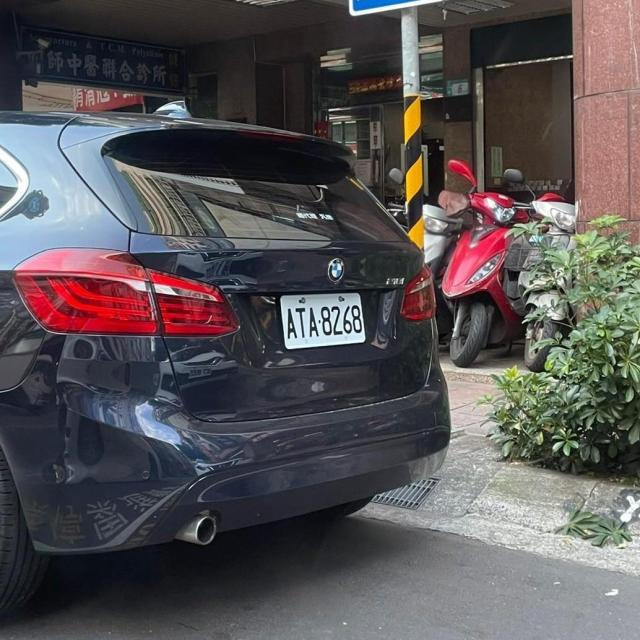W: (267, 285, 374, 355)
